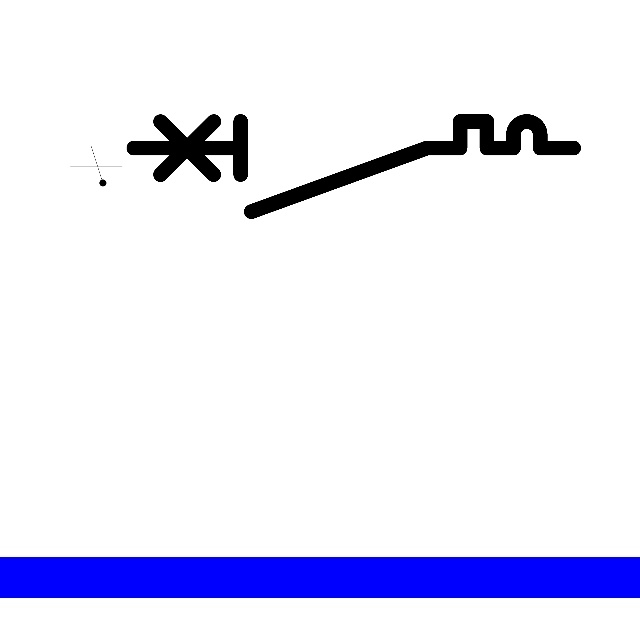interruptor_termomagnetico: (122, 110, 585, 223)
